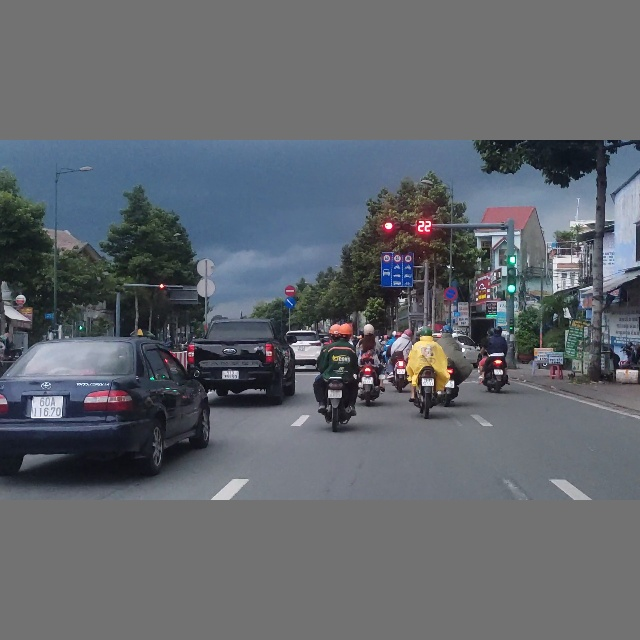P.102: (285, 285, 296, 296)
P.127*60: (393, 254, 401, 263), (404, 254, 413, 262), (383, 254, 391, 262)
P.131a: (443, 287, 458, 301)
R.302a: (285, 297, 295, 308)
R.415a: (381, 263, 413, 287)
